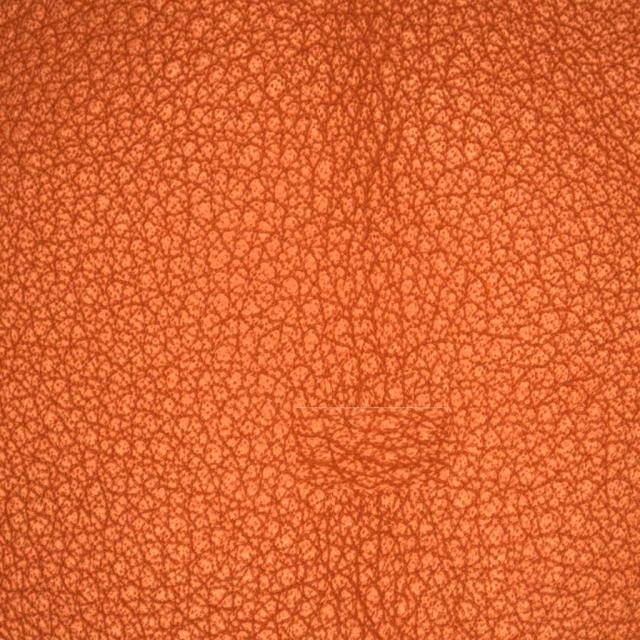Healed Injury: (302, 350, 456, 552), (308, 71, 452, 204)
